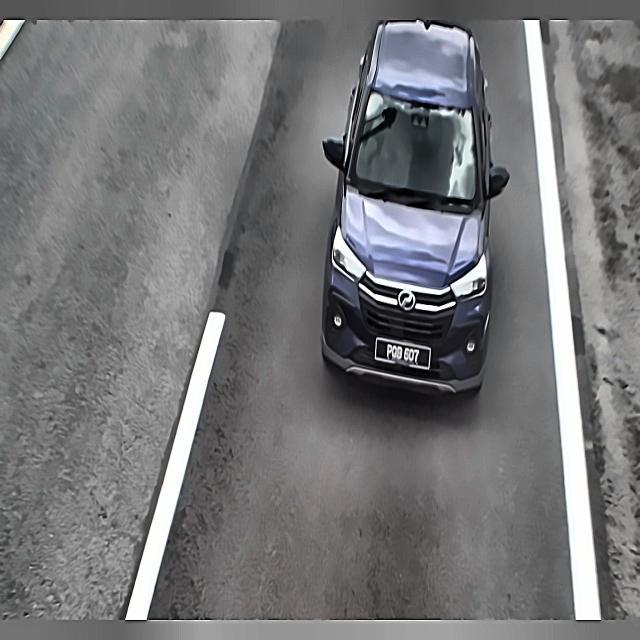car: (377, 337, 433, 372)
